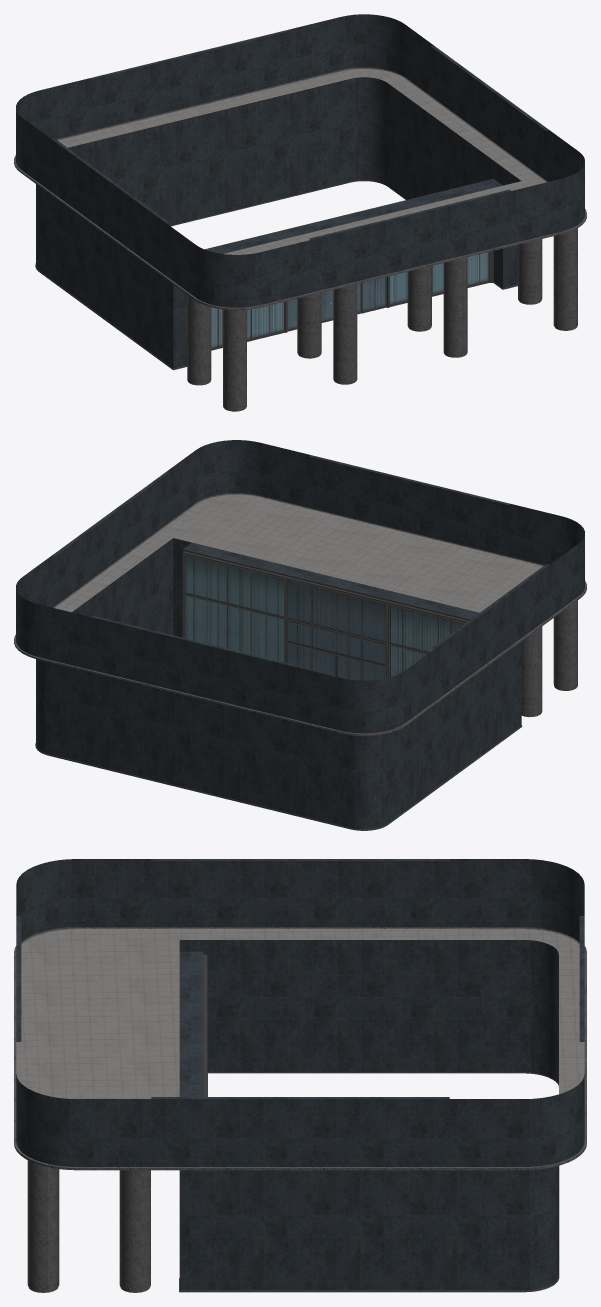
File: jctBld24_E_btm.fbx
3 renders of one model, top to bottom at view 1: azimuth 30°, elevation 25°; view 2: azimuth 150°, elevation 25°; view 3: azimuth 270°, elevation 25°, orthographic. The views are drawn at different scales.
Visible parts, largest first — view 1: jctBld24_E_btm_LOD0; view 2: jctBld24_E_btm_LOD0; view 3: jctBld24_E_btm_LOD0.
Part boxes in pixels (left/top/right/bottom): jctBld24_E_btm_LOD0: left=14, top=14, right=586, bottom=411; jctBld24_E_btm_LOD0: left=14, top=440, right=586, bottom=830; jctBld24_E_btm_LOD0: left=14, top=859, right=586, bottom=1292.
Size of the model in its own units: 2370 by 930 by 2370.
